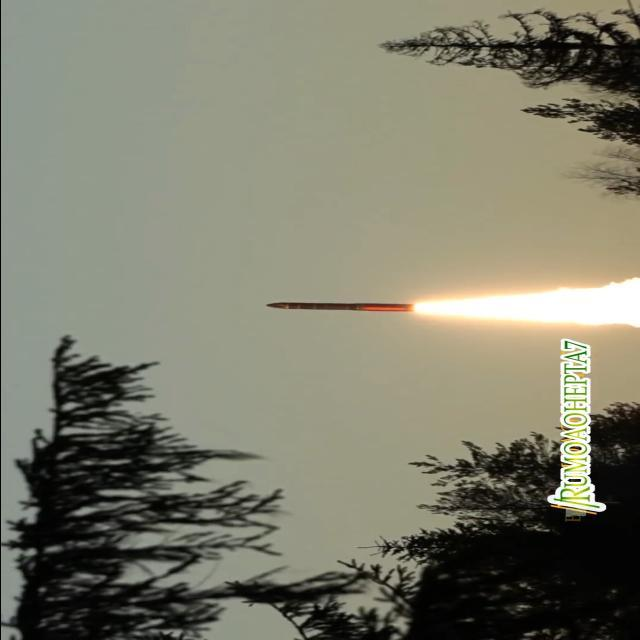missile: (251, 299, 413, 315)
